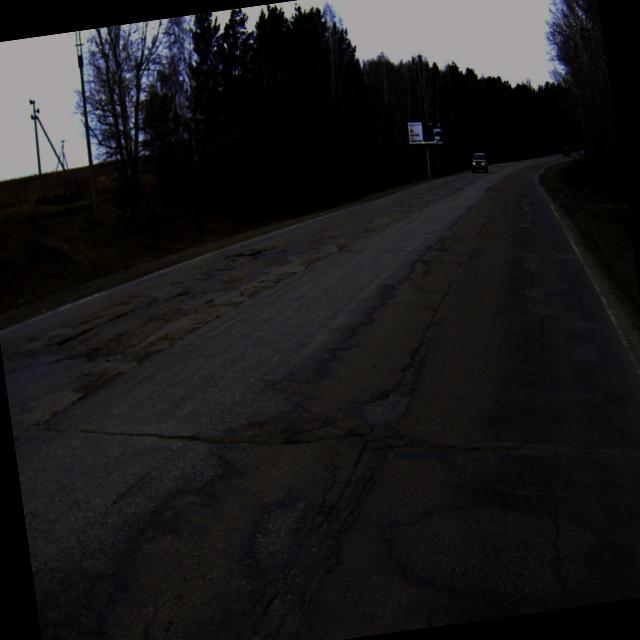road: (0, 153, 640, 640)
